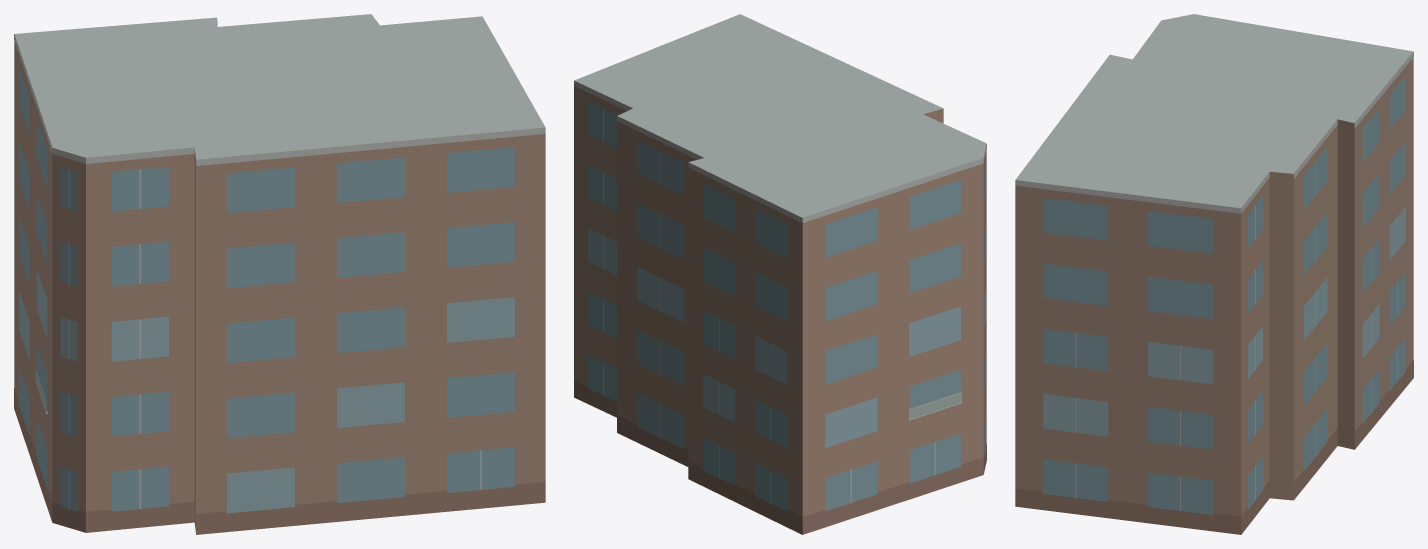
The model's file is survey-upis-33012437.glb.
3 renders of one model, left to right at view 1: azimuth 30°, elevation 25°; view 2: azimuth 150°, elevation 25°; view 3: azimuth 270°, elevation 25°, orthographic. The views are drawn at different scales.
Visible parts, largest first — view 1: survey-upis-33012437.tmp; view 2: survey-upis-33012437.tmp; view 3: survey-upis-33012437.tmp.
Boxes of the visible parts, bbox=[...] form: survey-upis-33012437.tmp: bbox=[14, 14, 545, 534]; survey-upis-33012437.tmp: bbox=[574, 14, 986, 534]; survey-upis-33012437.tmp: bbox=[1015, 14, 1413, 534].
Bounding box in the file's own units: 18.44 × 14.44 × 15.98.
